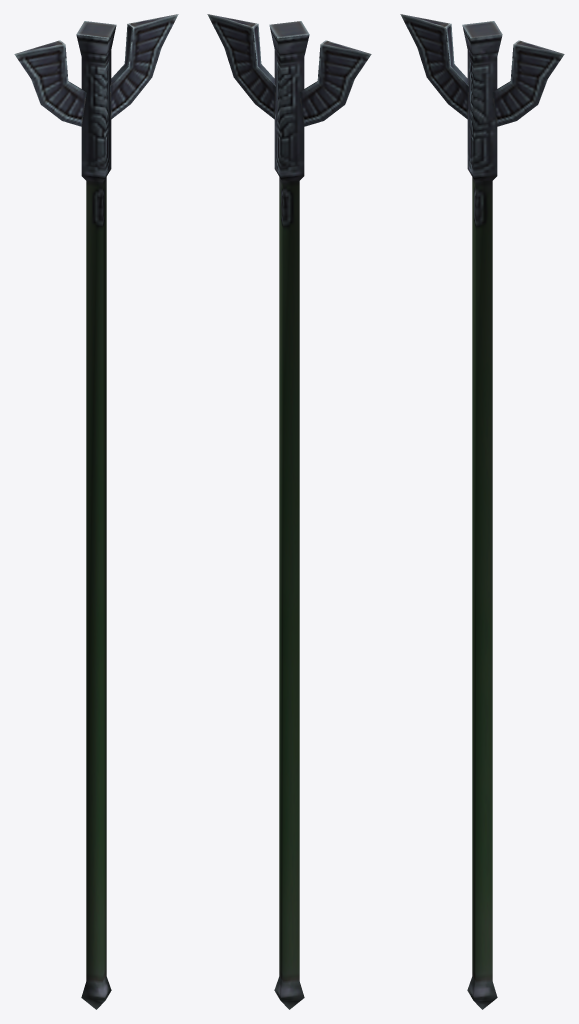
Rendered from Staff06.FBX.
3 renders of one model, left to right at view 1: azimuth 30°, elevation 25°; view 2: azimuth 150°, elevation 25°; view 3: azimuth 330°, elevation 25°, orthographic.
Visible parts, largest first — view 1: Staff06; view 2: Staff06; view 3: Staff06.
Boxes of the visible parts, bbox=[...] form: Staff06: bbox=[14, 14, 178, 1009]; Staff06: bbox=[207, 14, 371, 1009]; Staff06: bbox=[400, 14, 564, 1009].
Bounding box in the file's own units: 34.42 × 196 × 8.61.
